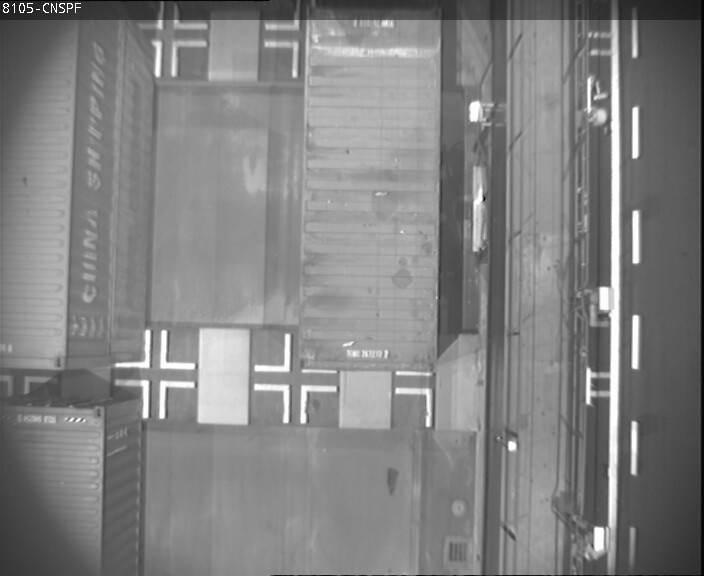groundmarker_1: (126, 37, 209, 80), (111, 375, 195, 417), (252, 334, 336, 376), (252, 380, 335, 422), (112, 330, 195, 372), (265, 1, 302, 75)
